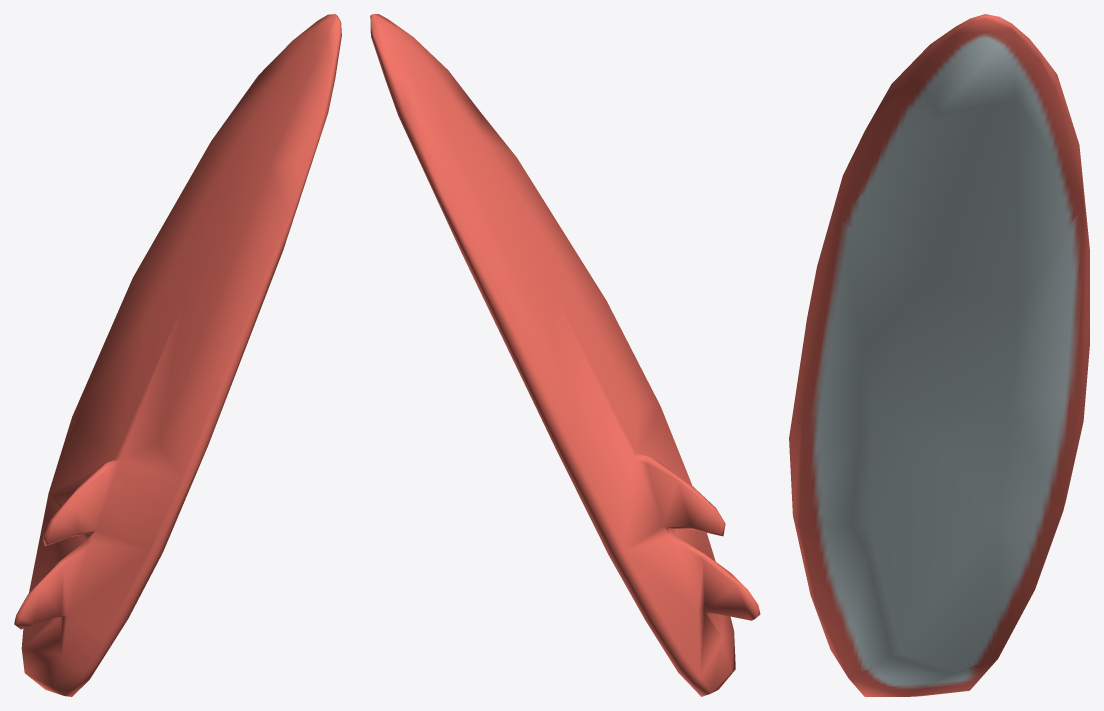
The model's file is redSurboards.fbx.
3 renders of one model, left to right at view 1: azimuth 30°, elevation 25°; view 2: azimuth 150°, elevation 25°; view 3: azimuth 270°, elevation 25°, orthographic. The views are drawn at different scales.
Parts seen in each view (by area): view 1: RedSurfboards; view 2: RedSurfboards; view 3: RedSurfboards.
Part boxes in pixels (x1,y1,x2,y2): RedSurfboards: (14,14,341,696); RedSurfboards: (370,14,760,696); RedSurfboards: (789,14,1089,696).
Size of the model in its own units: 116 by 187 by 55.54.
Materials: 1 (1 with a texture image).
